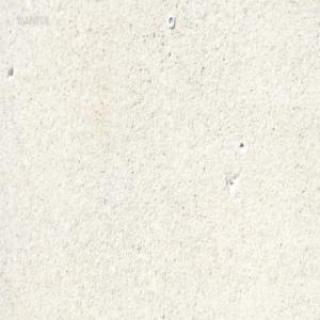Washertrack_idkeyframe: (166, 14, 174, 28)
